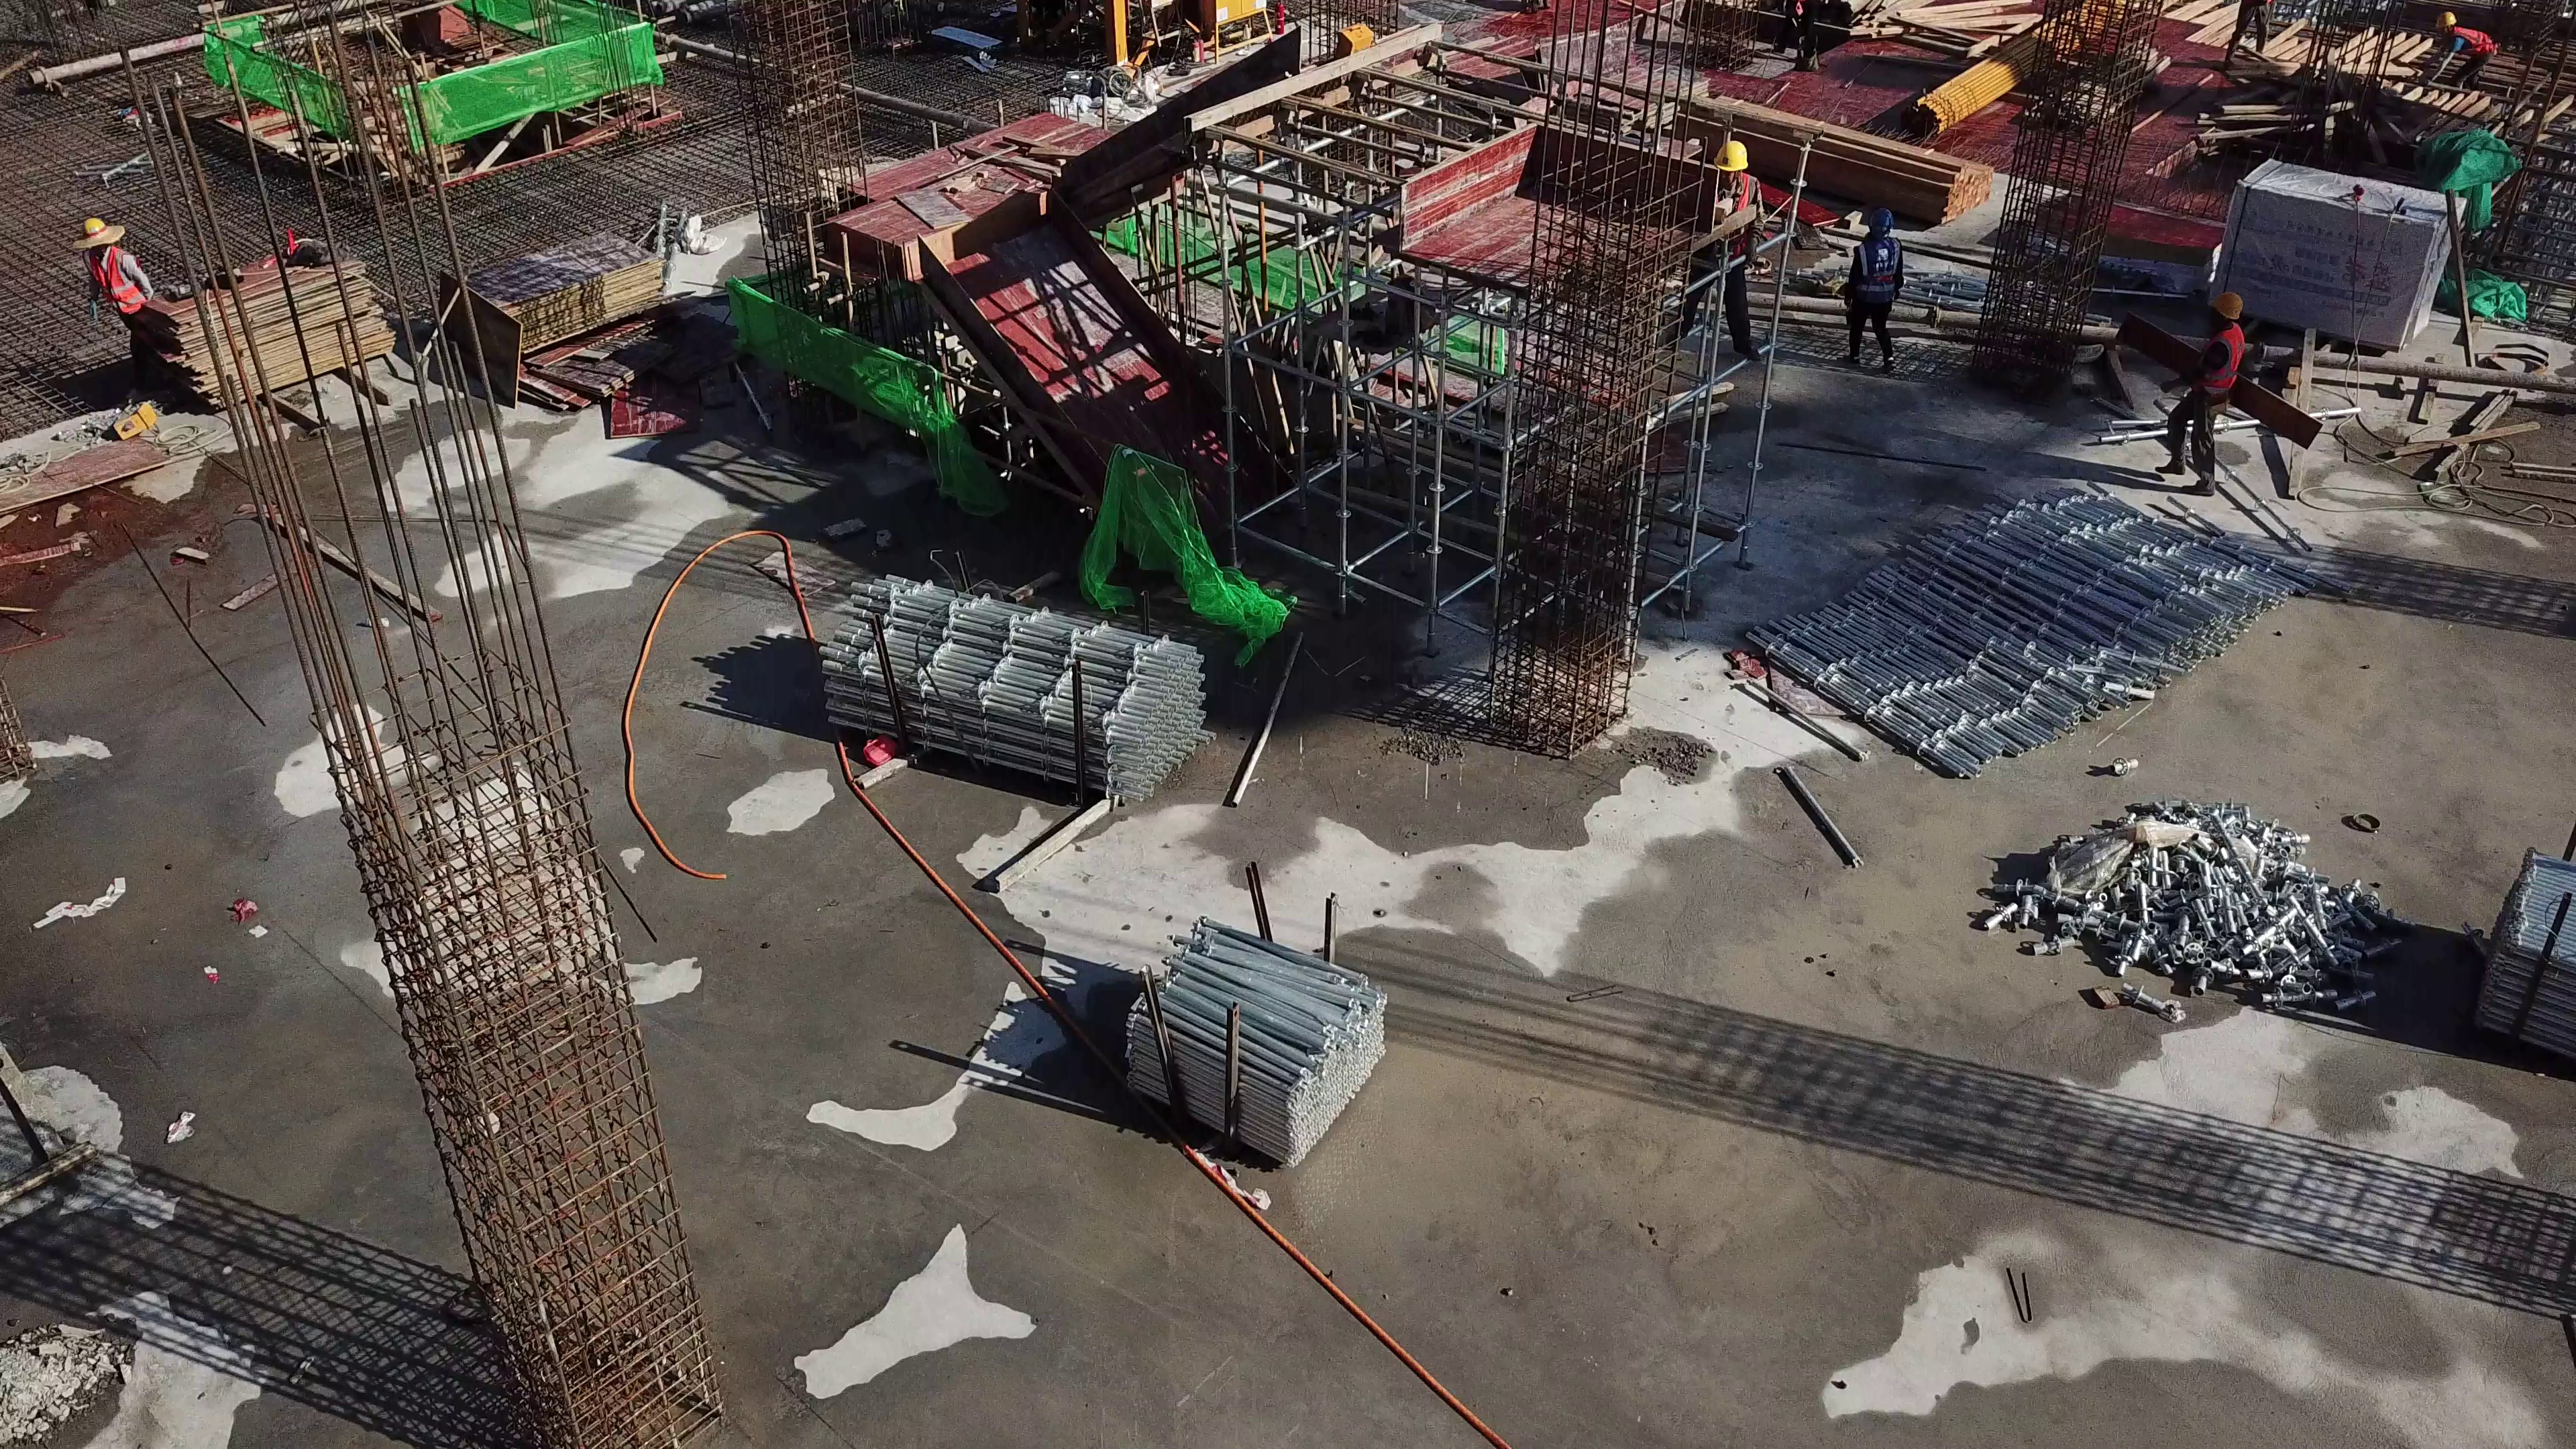board: (148, 244, 394, 405), (461, 228, 659, 400), (2051, 197, 2214, 268), (1585, 64, 1701, 119)
cutter: (1624, 127, 1692, 153)
ebox: (1208, 3, 1273, 48)
helmet: (1712, 140, 1749, 174), (2210, 293, 2243, 319), (2432, 8, 2458, 34), (1868, 207, 1890, 235), (80, 216, 105, 236)
person: (1667, 141, 1764, 367), (2155, 291, 2243, 501), (72, 209, 150, 353), (1843, 205, 1898, 370), (2431, 9, 2493, 90)
scaffold: (1738, 506, 2308, 769), (811, 580, 1203, 791), (1103, 926, 1375, 1175), (2473, 849, 2576, 1026)
vest: (82, 248, 142, 319), (2194, 321, 2240, 398), (1855, 237, 1896, 301), (1719, 174, 1749, 252), (2454, 25, 2493, 57)
wood: (1680, 95, 1992, 224)
